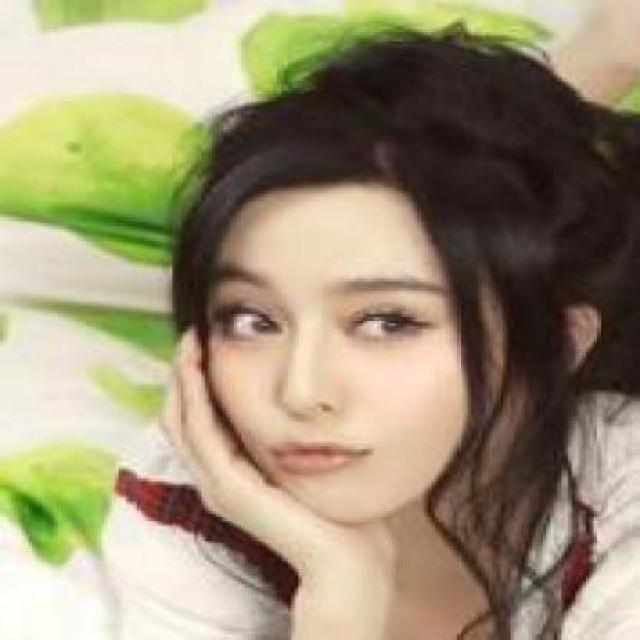closed-mouth: (267, 436, 370, 470)
